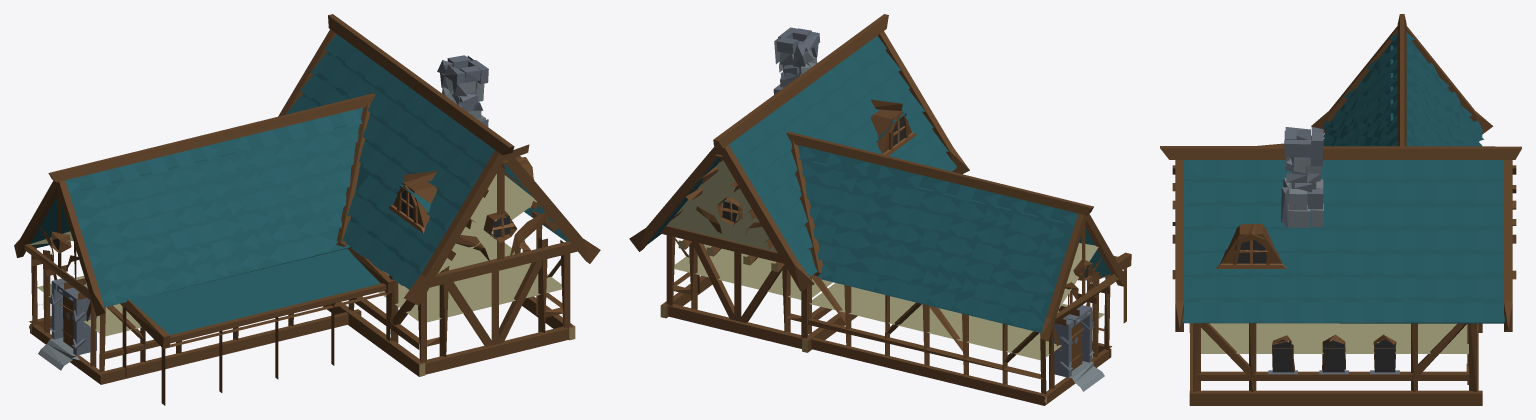
The model's file is atahiri.glb.
3 views of the same model, side by side, from view 1: azimuth 30°, elevation 25°; view 2: azimuth 150°, elevation 25°; view 3: azimuth 270°, elevation 25° (orthographic). The views are drawn at different scales.
Parts seen in each view (by area): view 1: Stable; view 2: Stable; view 3: Stable.
Part boxes in pixels (x1,y1,x2,y2): Stable: (14,14,600,405); Stable: (629,14,1131,405); Stable: (1160,14,1521,405).
Size of the model in its own units: 4.66 by 2.49 by 3.33.
